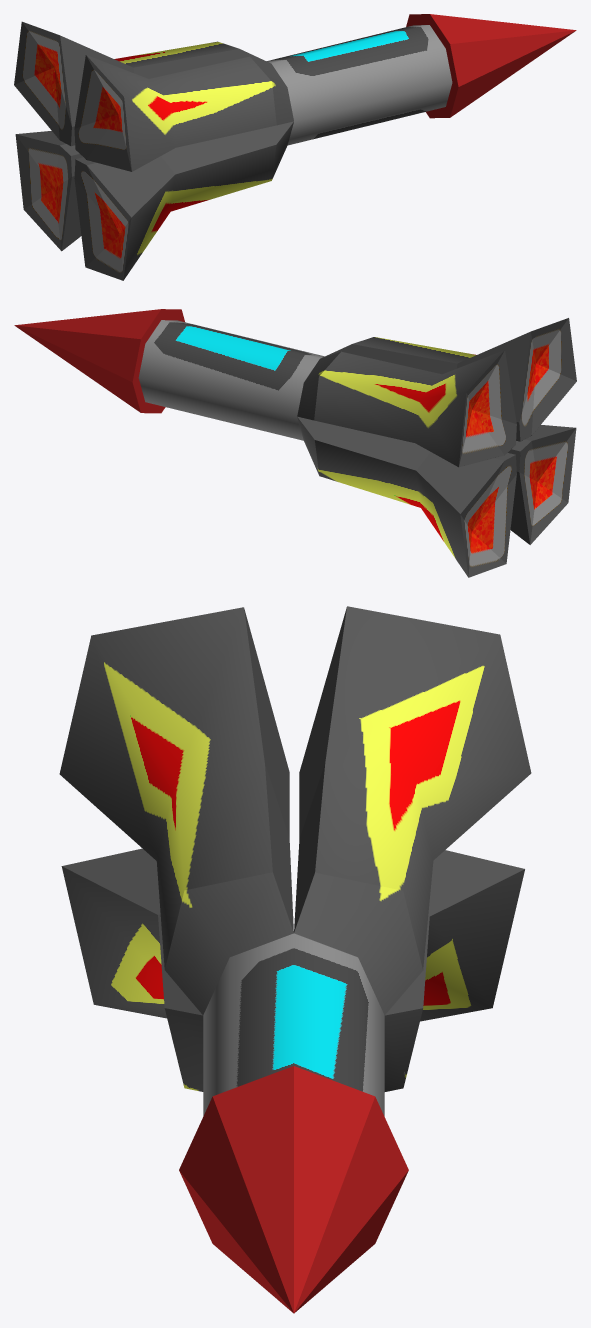
File: Rocket.FBX
The picture shows the model from 3 angles, top to bottom: view 1: azimuth 30°, elevation 25°; view 2: azimuth 150°, elevation 25°; view 3: azimuth 270°, elevation 25°; orthographic projection. The views are drawn at different scales.
Visible parts, largest first — view 1: Cylinder001; view 2: Cylinder001; view 3: Cylinder001.
Boxes of the visible parts, x1,y1,x2,y2 form: Cylinder001: (14, 14, 576, 280); Cylinder001: (14, 309, 576, 577); Cylinder001: (59, 606, 531, 1313).
Size of the model in its own units: 5063 by 2054 by 2065.
